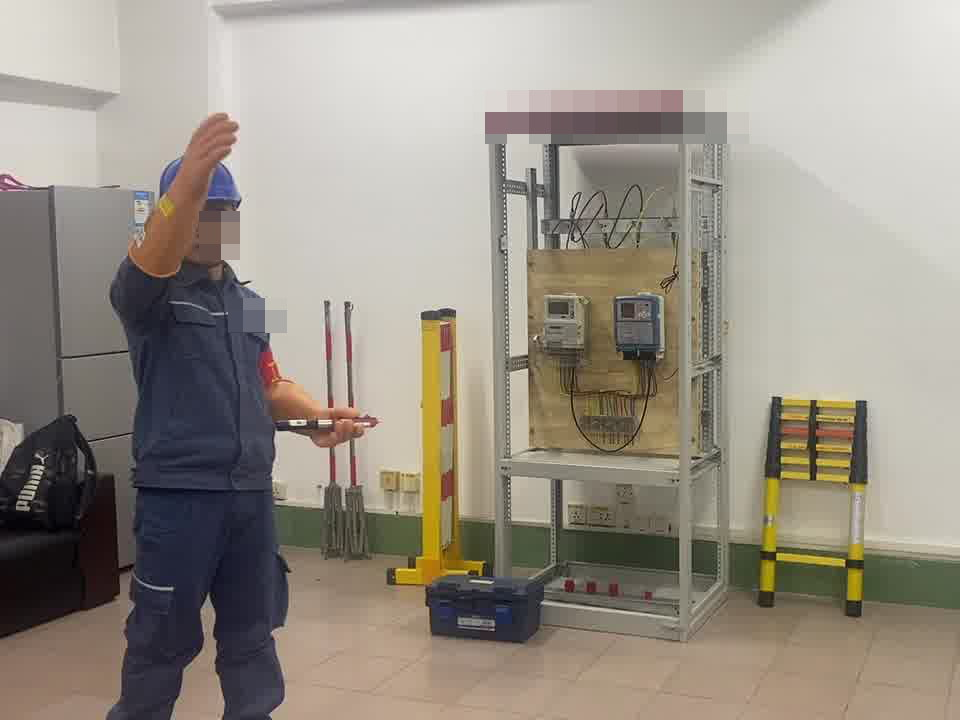badge: (252, 342, 283, 394)
downsuit: (100, 501, 294, 720)
halt: (153, 157, 245, 265)
longglove: (116, 112, 247, 280), (263, 374, 373, 455)
person: (89, 130, 349, 720)
testrod: (272, 409, 390, 439)
upsuit: (110, 265, 287, 486)
